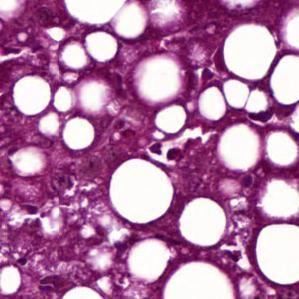steatosis: (109, 158, 173, 225), (224, 23, 278, 81), (161, 260, 236, 299), (255, 223, 299, 286), (178, 198, 226, 248), (11, 77, 50, 116), (271, 52, 299, 105), (64, 117, 96, 150), (61, 285, 103, 299)
